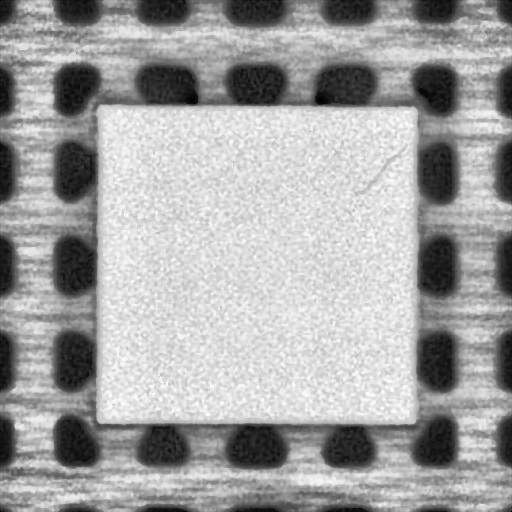DIE_CRACK: (355, 140, 412, 194)
